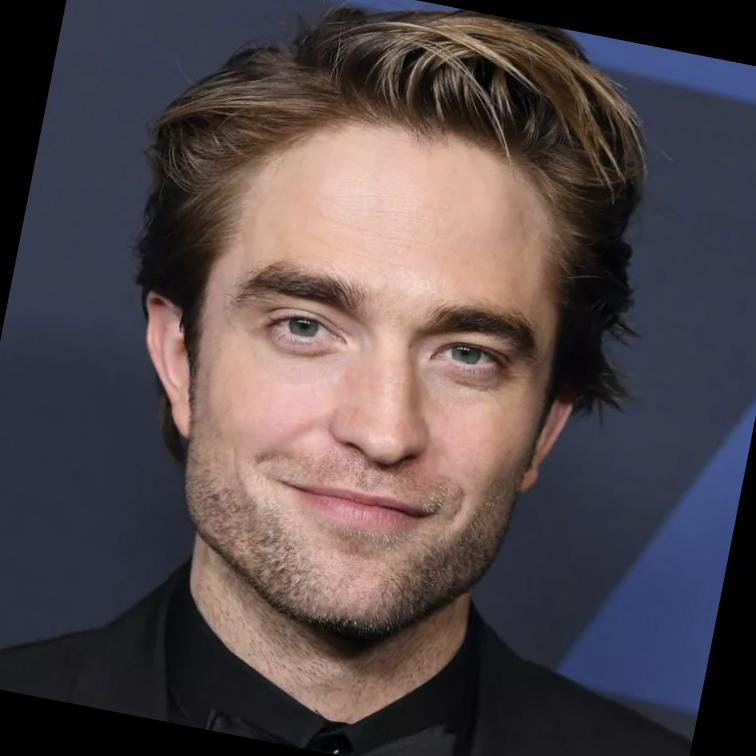Sober: (196, 130, 539, 609)
